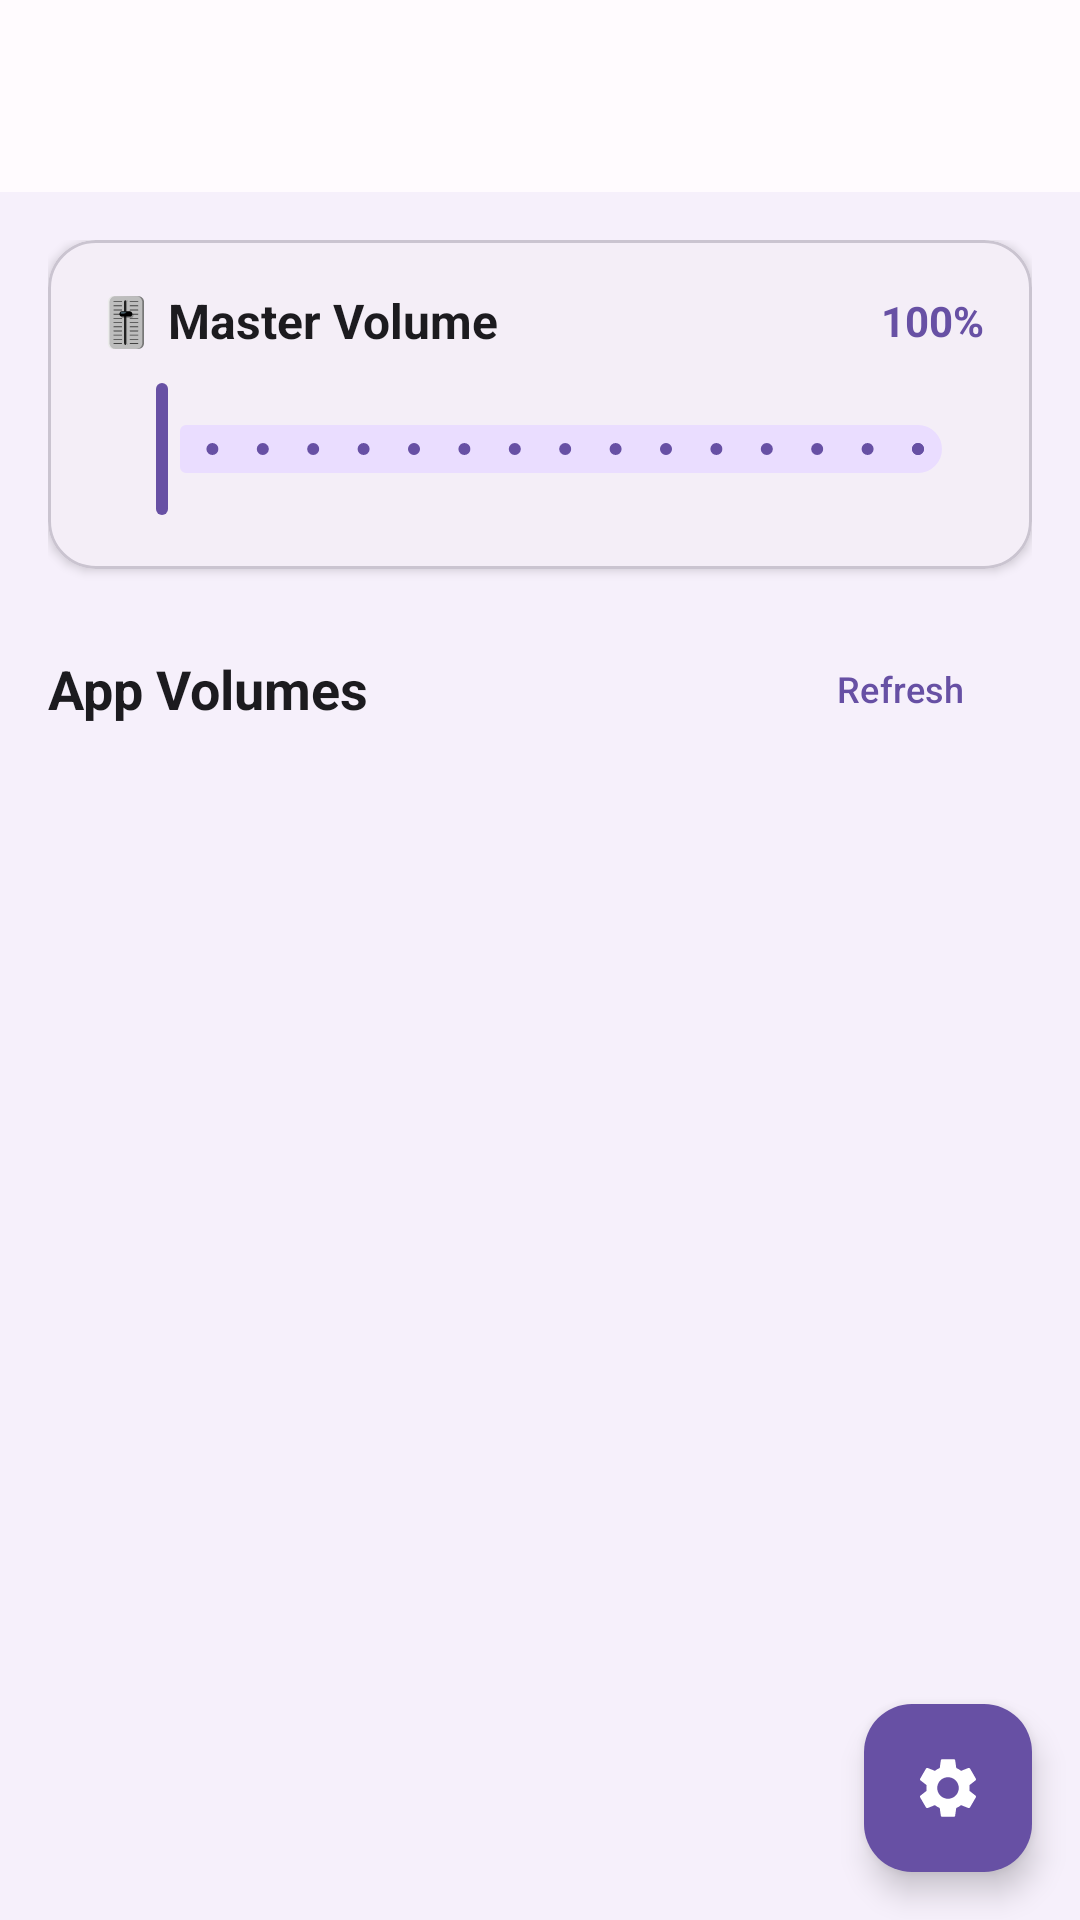

Icon bounding boxes for this 1080*1920 phone screenshot, format (x1, y1, x2, y2):
settings: (864, 1704, 1032, 1872)
